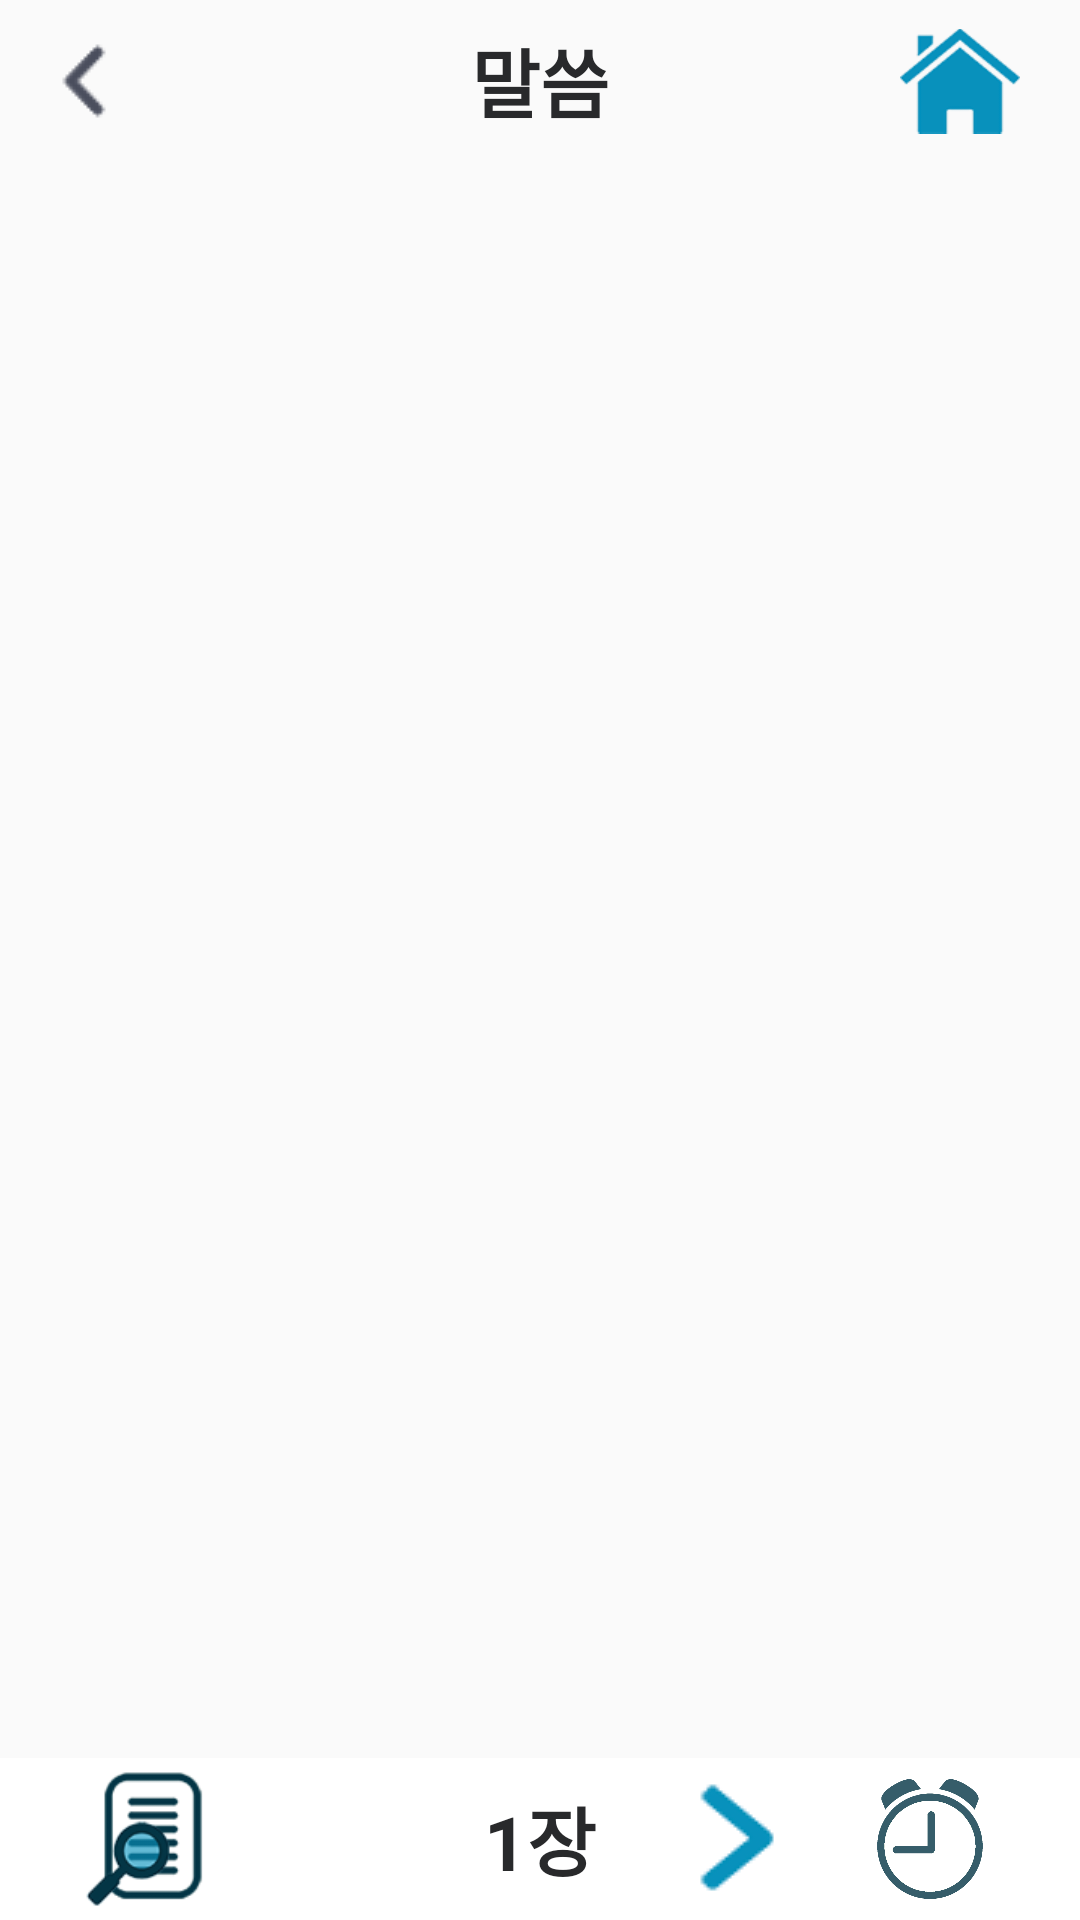

Icons on this 1080 × 1920 Android screen, each with the point to tap as (x,y):
alarm click: (930,1839)
arrow back: (84,81)
home: (960,81)
next page: (737,1837)
page search: (144,1839)
